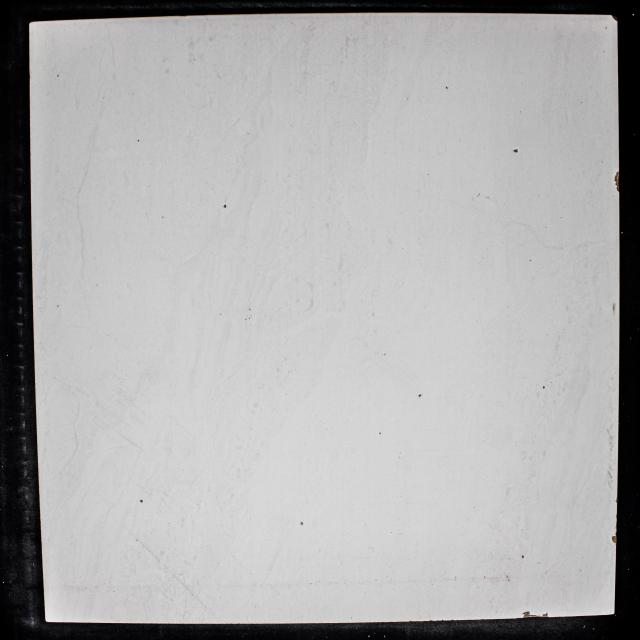edge-chipping: (521, 611, 549, 619), (614, 171, 620, 192), (612, 535, 618, 545), (611, 14, 618, 21)
hole: (513, 148, 518, 154), (222, 204, 228, 208), (139, 499, 144, 503), (300, 521, 304, 526), (418, 393, 422, 398), (542, 386, 546, 390), (445, 85, 448, 90), (521, 555, 524, 559), (378, 432, 382, 434), (137, 140, 140, 142), (57, 75, 59, 77)
